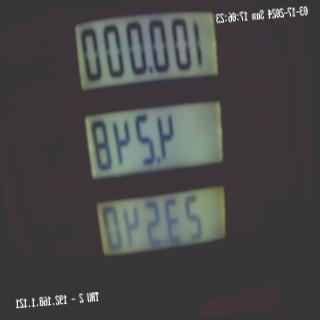screen: (67, 0, 244, 279)
